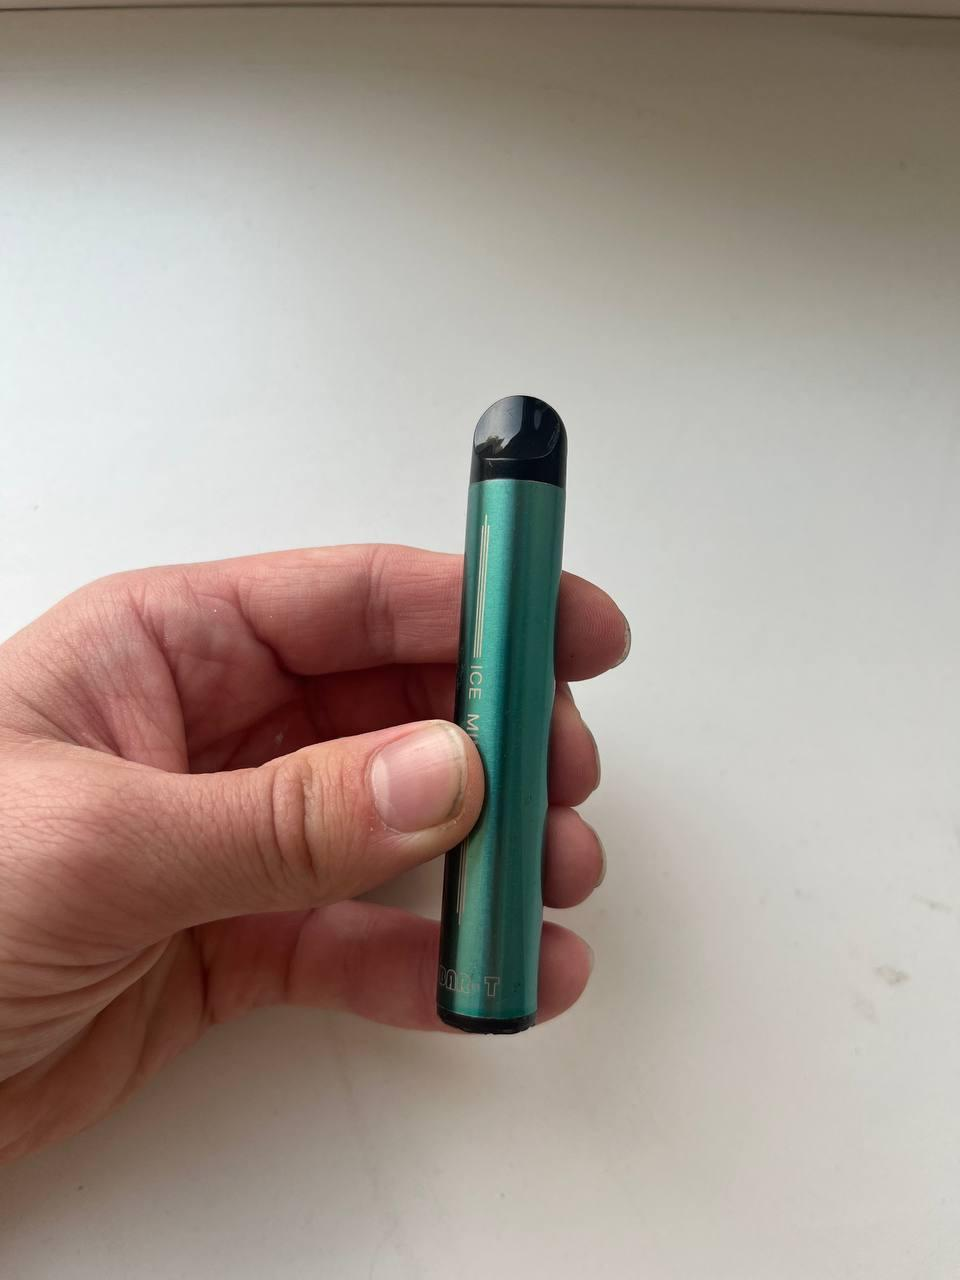Vape: (436, 396, 566, 1033)
